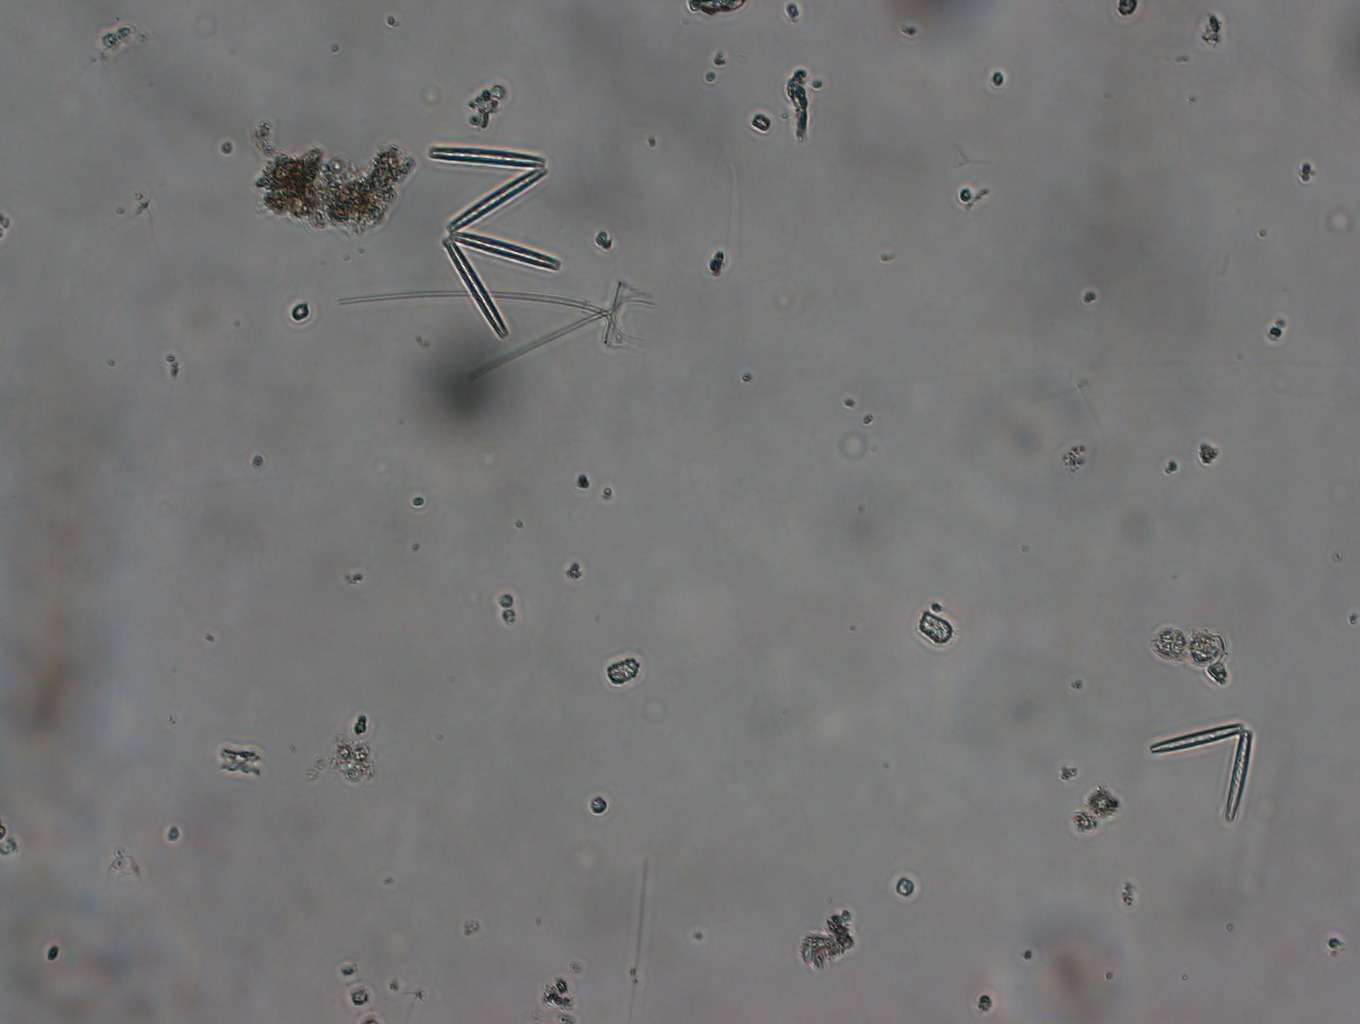thalassionema nitzschioides: (420, 128, 566, 344), (1144, 717, 1259, 824)
